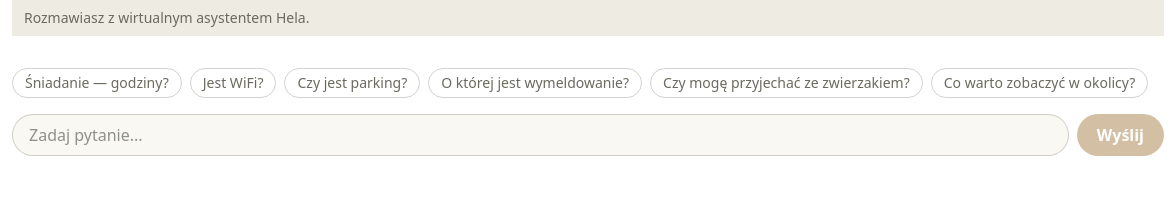
Test case: ConciergeChat › appends progressive chunks to the visible message instead of replacing it
Type "Jakie są godziny śniadania?" into the field with placeholder "Zadaj pytanie..." at (540, 135), box x1=12 y1=114 x2=1069 y2=156
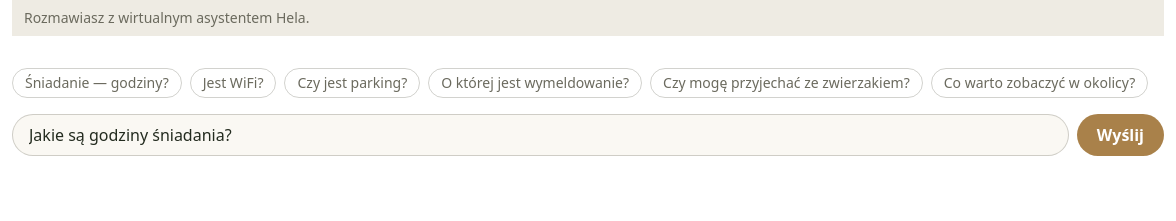
Click the button "Wyślij" at (1120, 135), box x1=1077 y1=114 x2=1164 y2=156
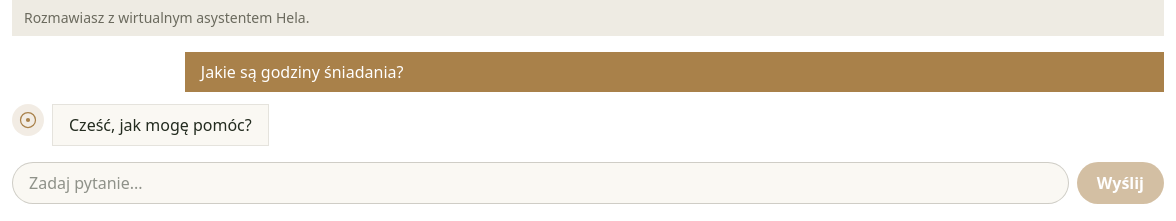
Check: the text "Cześć, jak mogę pomóc?" is shown, box x1=52 y1=104 x2=269 y2=146
